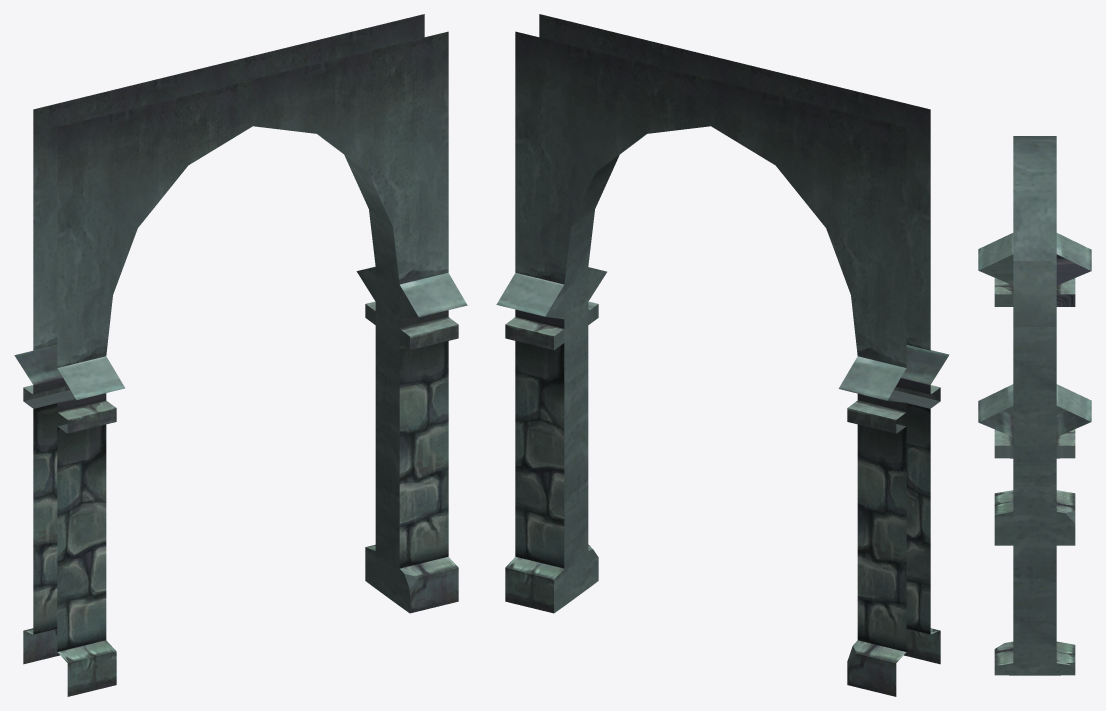
File: crypt_secret_doorframe_01.fbx
3 renders of one model, left to right at view 1: azimuth 30°, elevation 25°; view 2: azimuth 150°, elevation 25°; view 3: azimuth 270°, elevation 25°, orthographic. The views are drawn at different scales.
Visible parts, largest first — view 1: crypt_secret_doorframe_01-0; view 2: crypt_secret_doorframe_01-0; view 3: crypt_secret_doorframe_01-0.
Boxes of the visible parts, x1=… form: crypt_secret_doorframe_01-0: x1=14, y1=14, x2=467, y2=696; crypt_secret_doorframe_01-0: x1=496, y1=14, x2=949, y2=696; crypt_secret_doorframe_01-0: x1=978, y1=136, x2=1091, y2=675.
Bounding box in the file's own units: 4 × 5.5 × 1.1.
